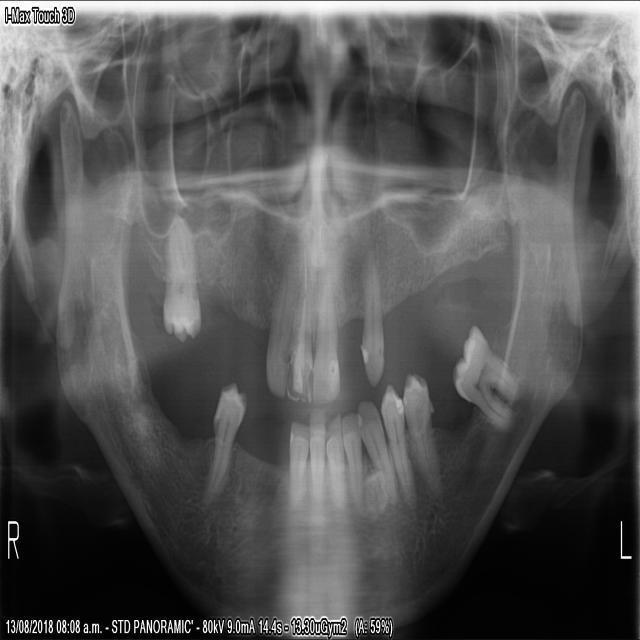LCD: (354, 394, 399, 507)
LID: (325, 409, 351, 512), (339, 409, 363, 508)
LIU: (309, 256, 341, 407), (358, 247, 385, 388)
LMD: (446, 317, 523, 431)
LPMD: (401, 367, 444, 496), (377, 385, 420, 502)
RID: (284, 415, 308, 514), (306, 402, 325, 494)
RIU: (263, 257, 295, 405), (283, 253, 313, 403)
RMU: (155, 223, 201, 340)
RPMU: (200, 380, 247, 510)
